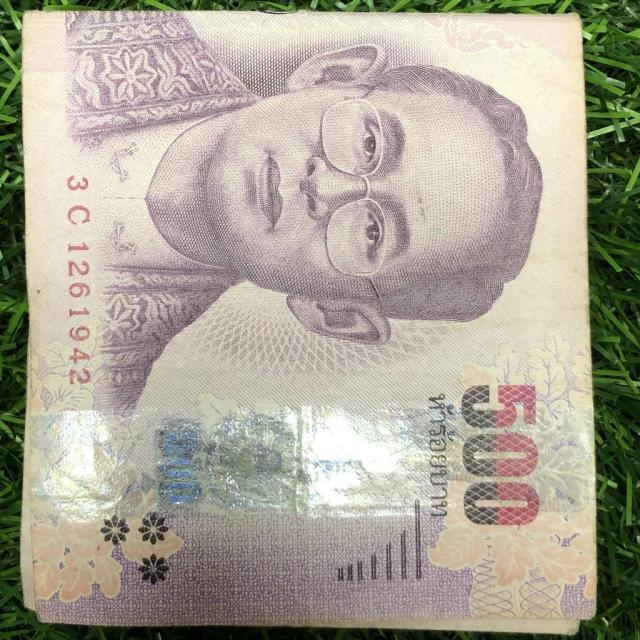THAI500: (21, 12, 596, 631)
